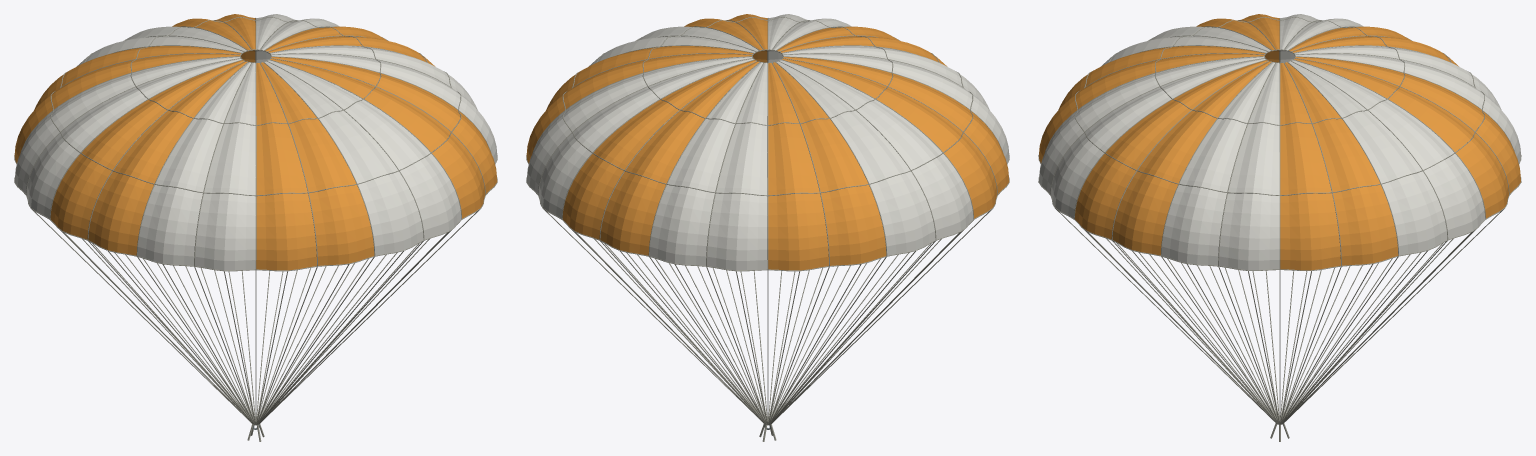
File: parachute_1_deployed.glb
3 views of the same model, side by side, from view 1: azimuth 30°, elevation 25°; view 2: azimuth 150°, elevation 25°; view 3: azimuth 270°, elevation 25° (orthographic).
Parts seen in each view (by area): view 1: Inflated ivory and ochre fabric gores, Forty eight suspension lines and harness, Radial seams skirt hem and vent reinforcement; view 2: Inflated ivory and ochre fabric gores, Forty eight suspension lines and harness, Radial seams skirt hem and vent reinforcement; view 3: Inflated ivory and ochre fabric gores, Forty eight suspension lines and harness, Radial seams skirt hem and vent reinforcement.
Part boxes in pixels (x1,y1,x2,y2): Inflated ivory and ochre fabric gores: [14, 14, 497, 270]; Forty eight suspension lines and harness: [31, 209, 480, 441]; Radial seams skirt hem and vent reinforcement: [14, 17, 497, 271]; Inflated ivory and ochre fabric gores: [526, 14, 1009, 270]; Forty eight suspension lines and harness: [543, 209, 992, 441]; Radial seams skirt hem and vent reinforcement: [526, 17, 1009, 271]; Inflated ivory and ochre fabric gores: [1039, 14, 1520, 270]; Forty eight suspension lines and harness: [1056, 209, 1503, 441]; Radial seams skirt hem and vent reinforcement: [1038, 17, 1521, 270].
Bounding box in the file's own units: 8.14 × 7.12 × 8.14.
